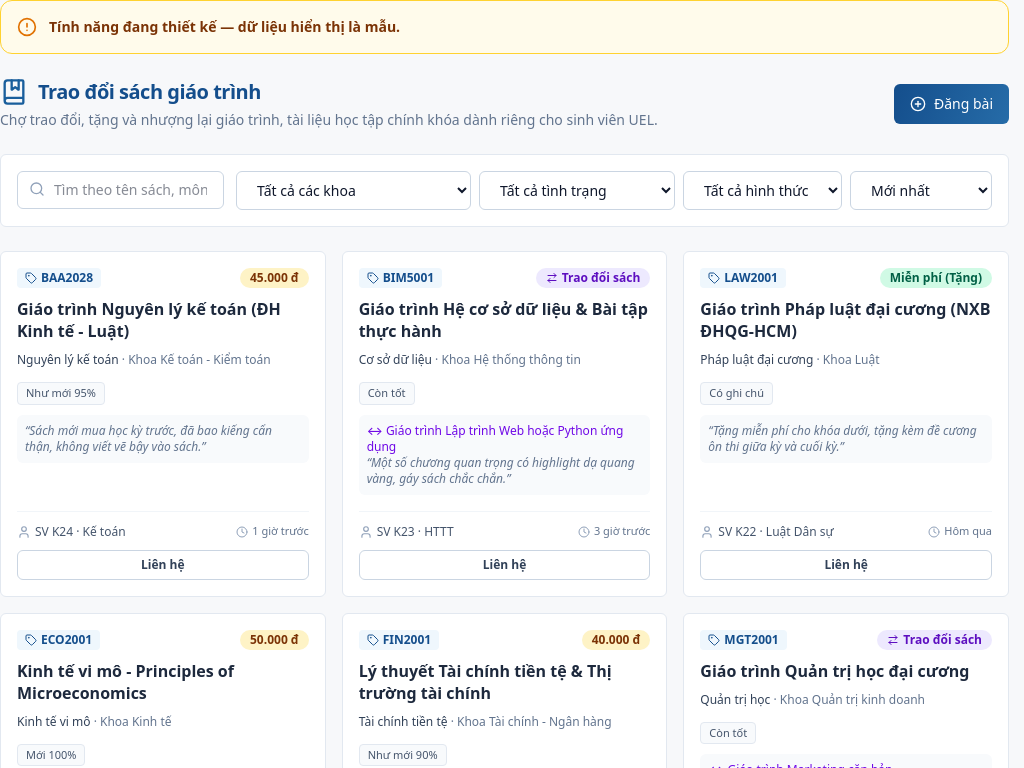
Test case: W9: Trang Trao đổi sách (/books) › bấm nút Liên hệ hiển thị hộp thoại yêu cầu đăng nhập và nút Đăng nhập bằng email trường disabled kèm Sắp ra mắt
Note: Click the first Contact button
What coordinates should you click on to do the following:
click the button "Liên hệ" below "SV K24 · Kế toán"
I would click on:
 (163, 564)
Its box is [17,550,309,580].
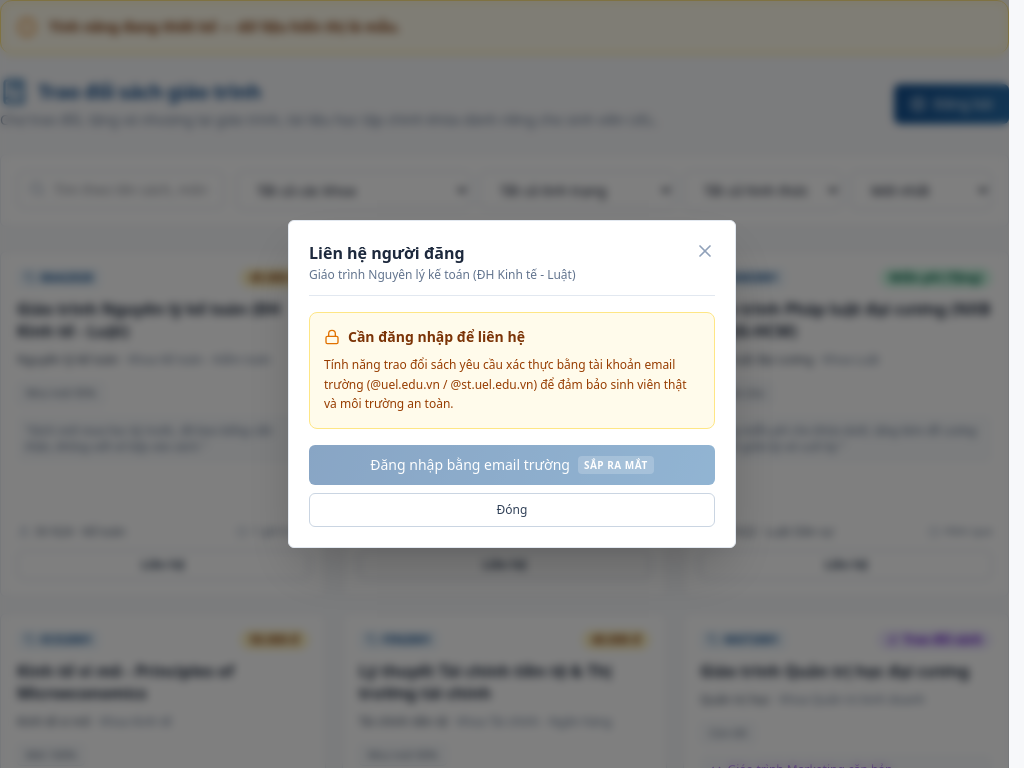
Check: the dialog is shown
Check: the text "Cần đăng nhập để liên hệ" is shown, box [348,327,525,347]
Check: the button "Đăng nhập bằng email trường Sắp ra mắt" is disabled, box [309,445,715,485]
Note: Close dialog
What coordinates should you click on to do the following:
click the button named "Đóng"
I would click on:
 (705, 251)
Its box is [691,237,719,265].
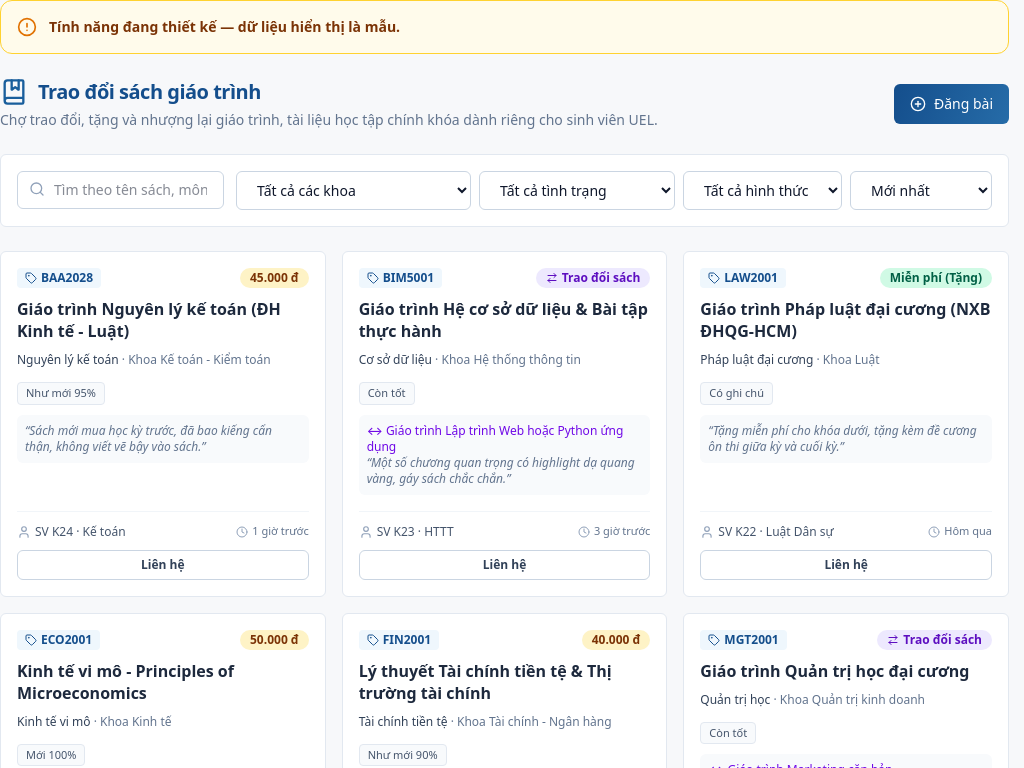
Check: the dialog is gone
